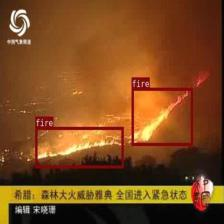fire: (35, 126, 123, 168), (131, 87, 193, 145)
